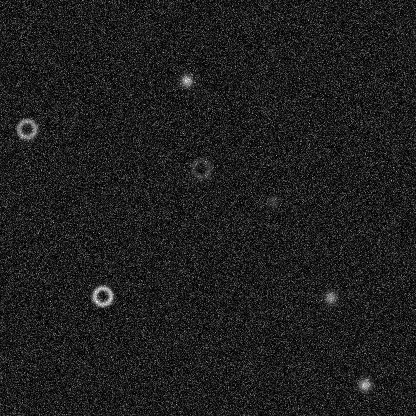Ring: (189, 156, 213, 180), (14, 116, 38, 140), (90, 283, 114, 307)
Spot: (178, 72, 194, 88), (356, 376, 372, 392), (264, 193, 280, 209), (322, 289, 338, 305)
